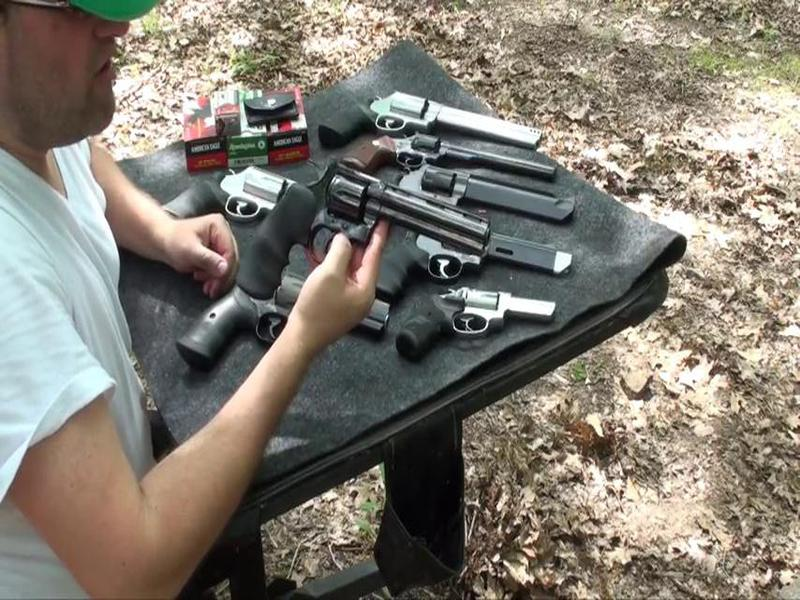Revolver: (233, 165, 499, 334)
